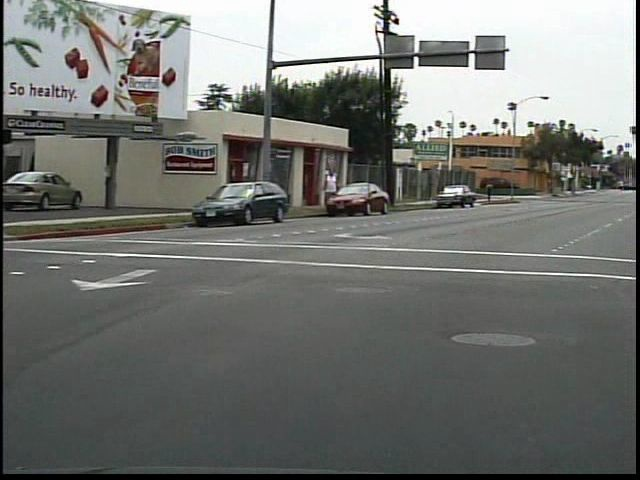person: (325, 162, 349, 213), (488, 178, 500, 205)
